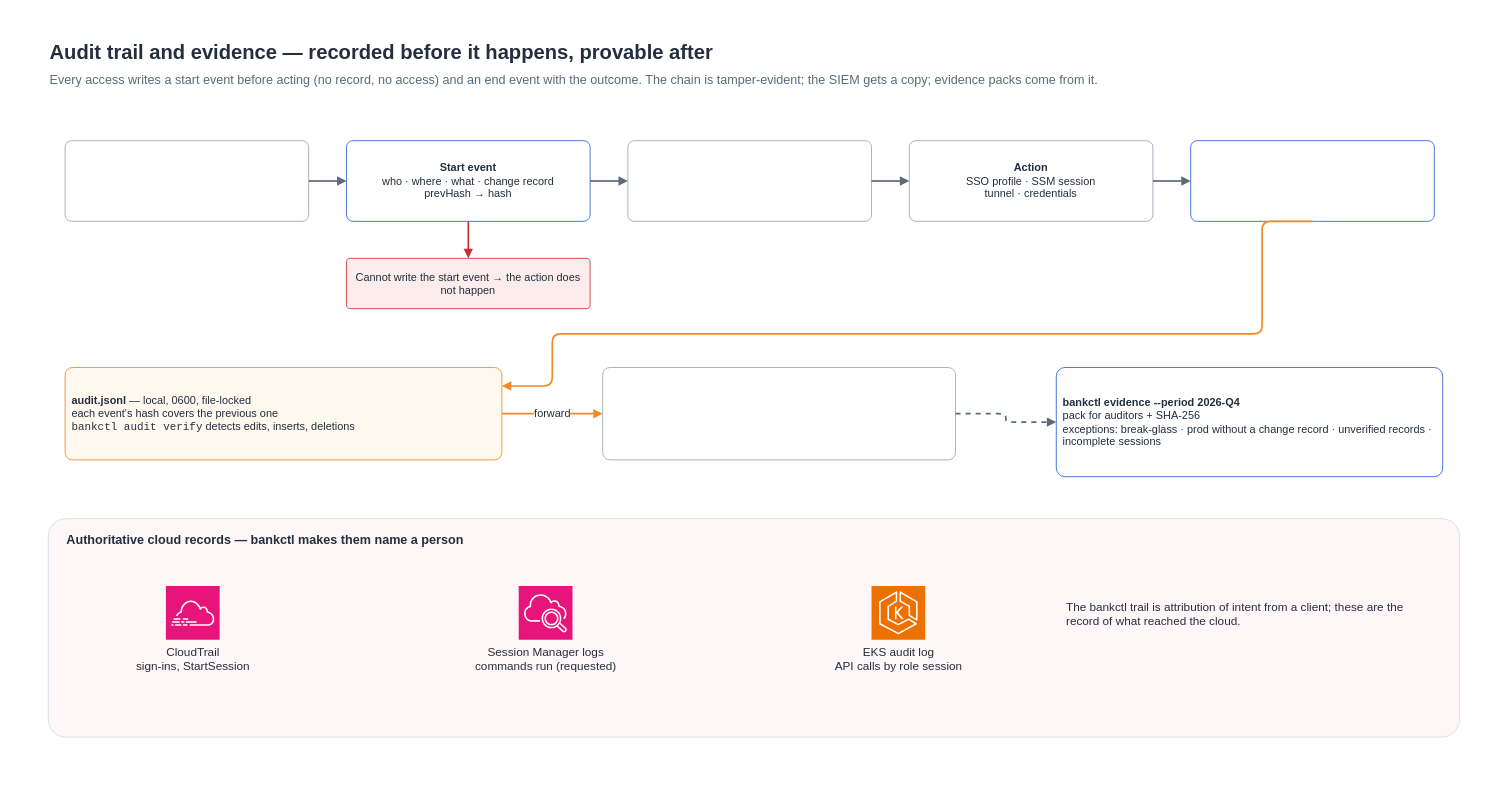
This 1507x785 diagram has some shape labels left out. Here are the shapes that lost their labels. From the top down, the centre of each, then its label:
At [186,180]: "Command aws login · shell · connect login · env · ec2".
At [749,180]: "Change control required? verified? break-glass? (switchable)".
At [1312,180]: "End event outcome · acting principal detail".
At [779,413]: "SIEM — Splunk HEC or JSON best effort; the local log stays authoritative".
